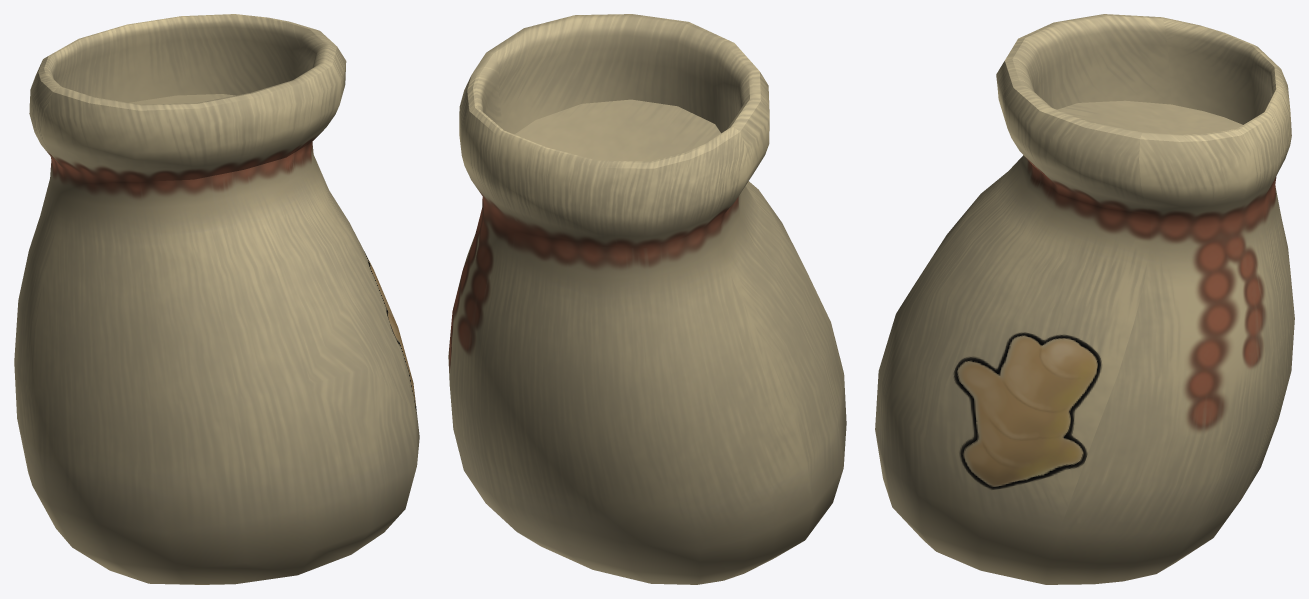
The model's file is Model_TexturaSacoAberto3Gengibre_v1.fbx.
3 renders of one model, left to right at view 1: azimuth 30°, elevation 25°; view 2: azimuth 150°, elevation 25°; view 3: azimuth 270°, elevation 25°, orthographic. The views are drawn at different scales.
Visible parts, largest first — view 1: saco parede.004; view 2: saco parede.004; view 3: saco parede.004.
Part boxes in pixels (left/top/right/bottom): saco parede.004: left=14, top=14, right=419, bottom=584; saco parede.004: left=448, top=14, right=846, bottom=584; saco parede.004: left=875, top=14, right=1294, bottom=584.
Size of the model in its own units: 217 by 299 by 231.
